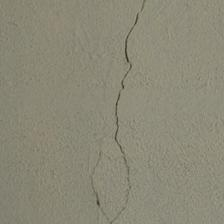Crack: (112, 5, 152, 147), (91, 154, 134, 222)
